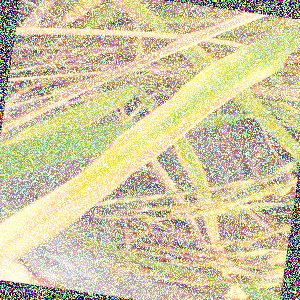Leaf_Blast: (121, 67, 213, 180)
